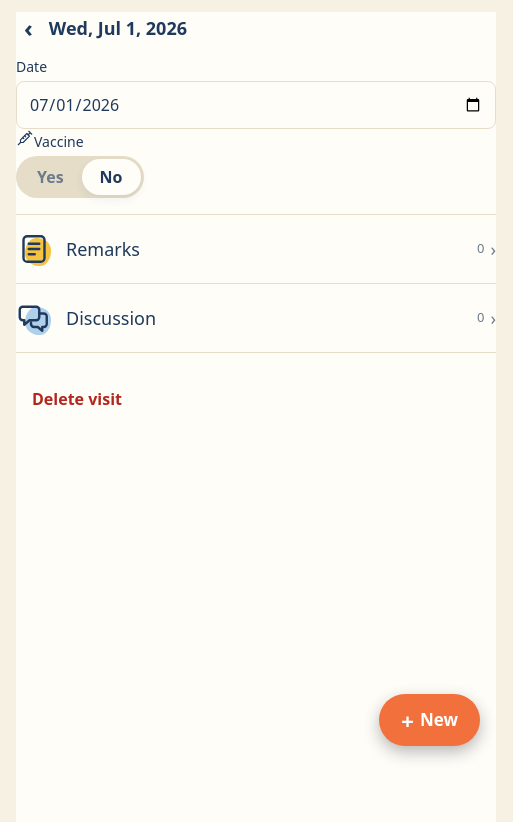
Test: Pediatrician screens › deletes the visit after confirmation and lands on the history
Click the button "Delete visit" at (77, 399), box [16,377,138,421]
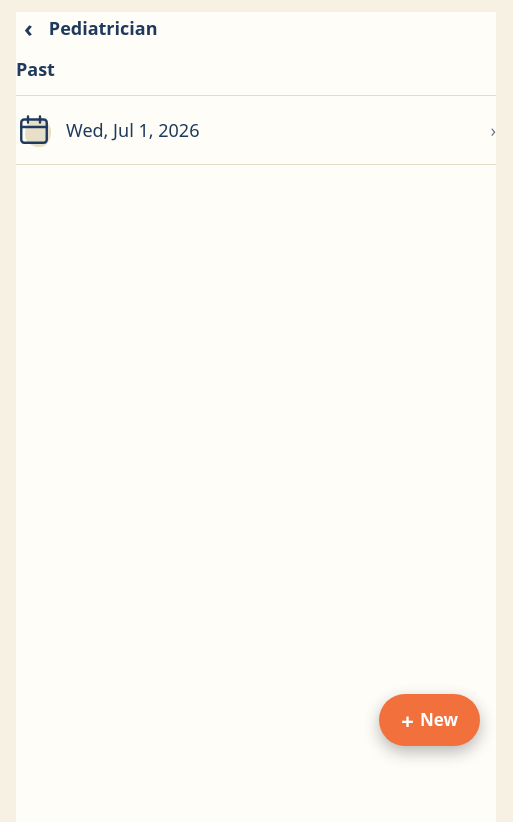
Expected: the element "Past" is shown, [16,56,496,165]
